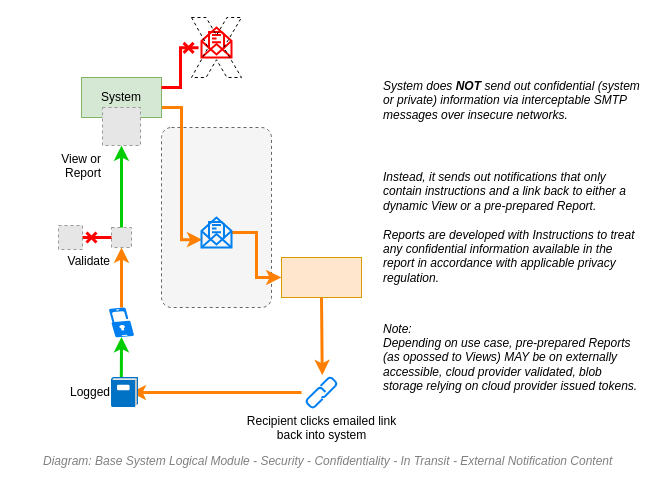
This 659x489 diagram has some shape labels left out. Grey dashed boxes stand in for pictures. Each missing label, with the box of its shape:
Insecure Network & Devices (MTAs, Proxies, Firewalls, etc.): (160, 126, 272, 308)
Recipient: (280, 256, 362, 298)
Sign In / Sign Up: (108, 307, 134, 337)
